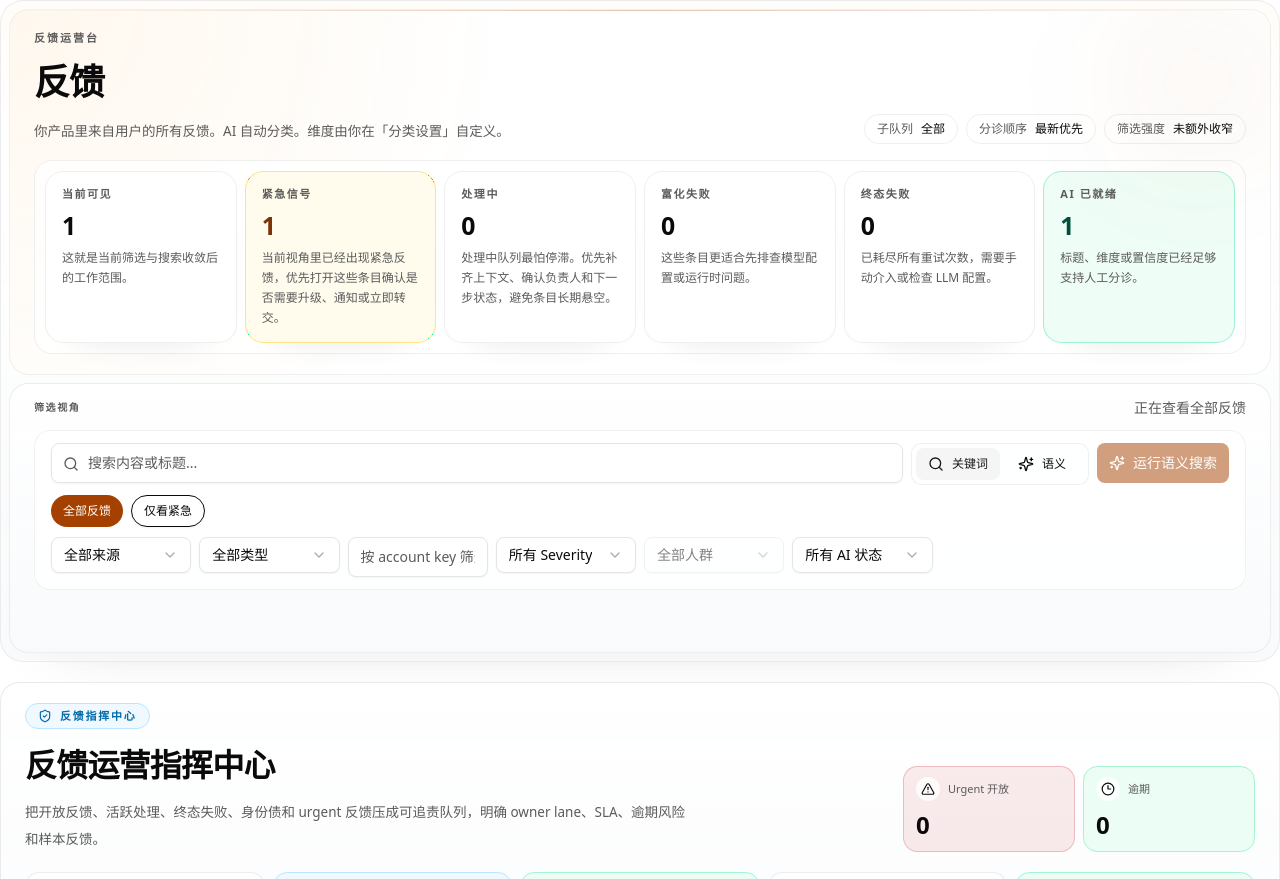
Test: _authed.feedback route — user flow smoke › filtered zero-state stays a search refinement state instead of onboarding
Type "no-hit" into the search field at point(477, 463), box [51,443,903,483]
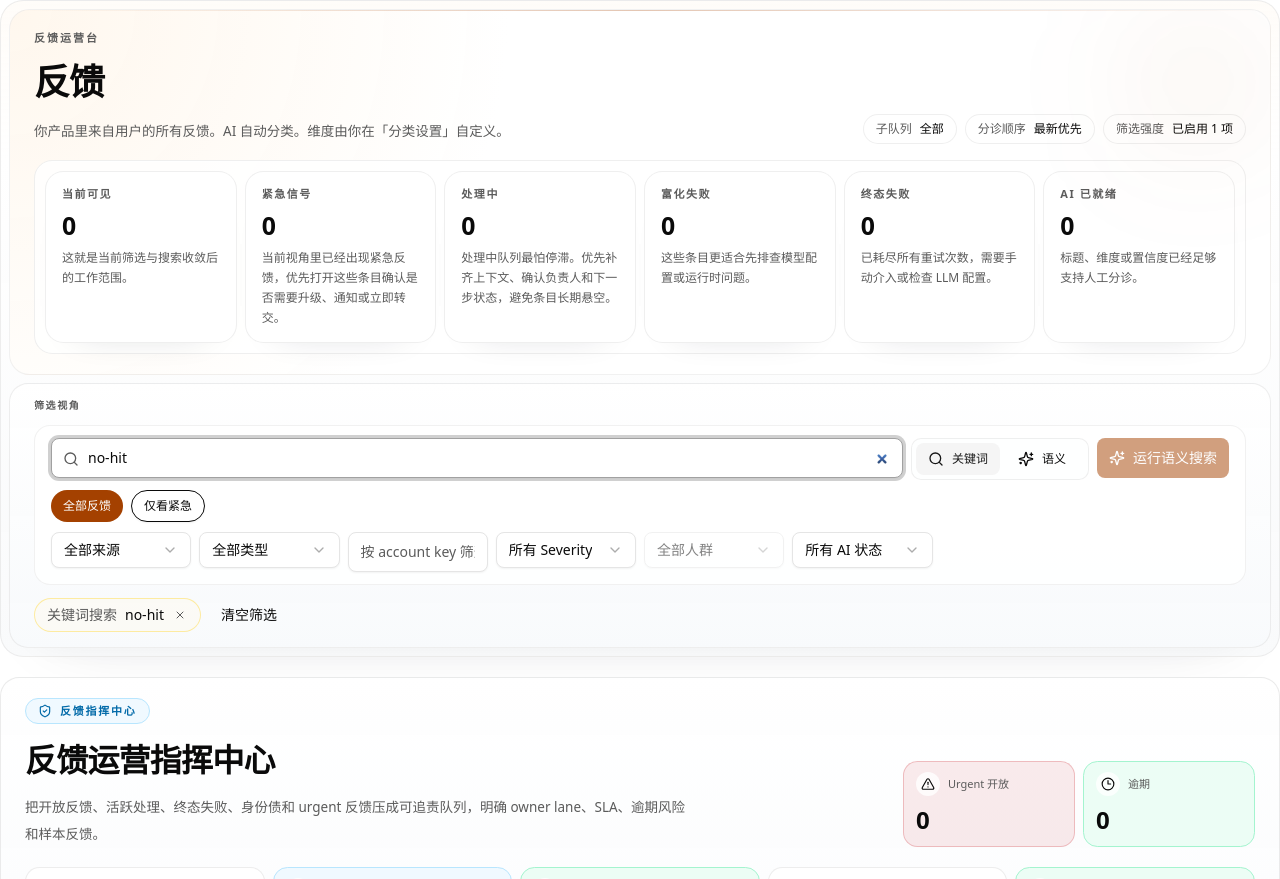
Click the button "清空筛选" at point(249, 615), box [209,597,289,633]
(page scrolled)
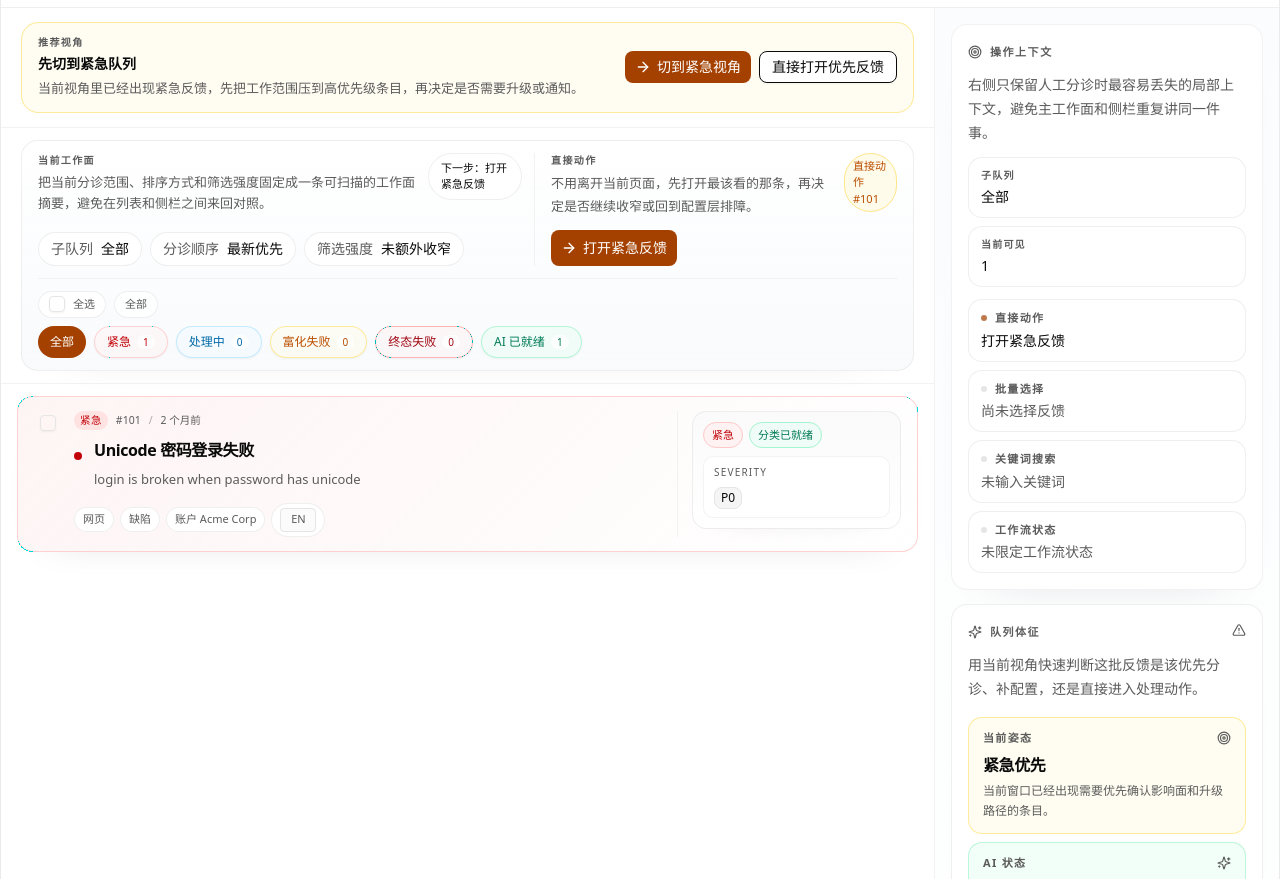
Now the text "Unicode 密码登录失败" is shown, box [94,439,254,461]
